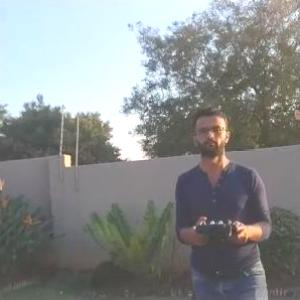follow: (171, 104, 277, 299)
